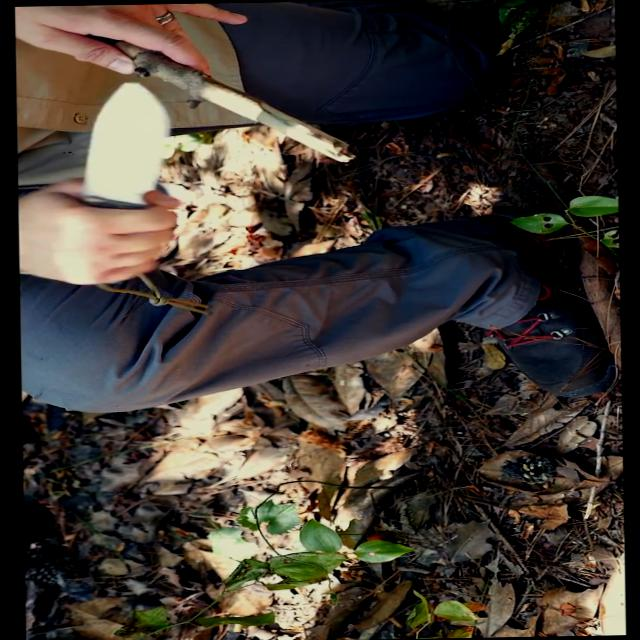knife: (33, 76, 179, 286)
